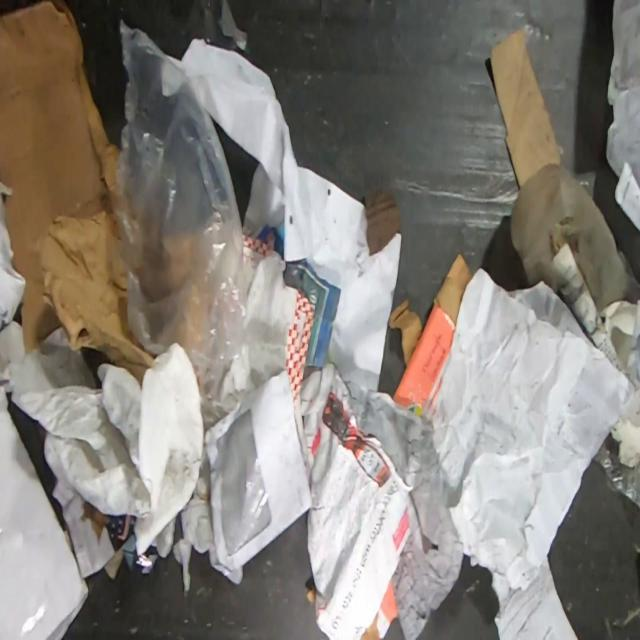cardboard: (0, 0, 120, 354), (388, 252, 472, 418), (489, 26, 564, 190), (365, 188, 402, 257)
soft_plastic: (115, 15, 254, 433), (509, 163, 640, 314), (574, 170, 596, 202)
